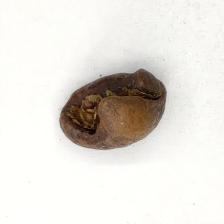NG: (60, 69, 164, 139)
